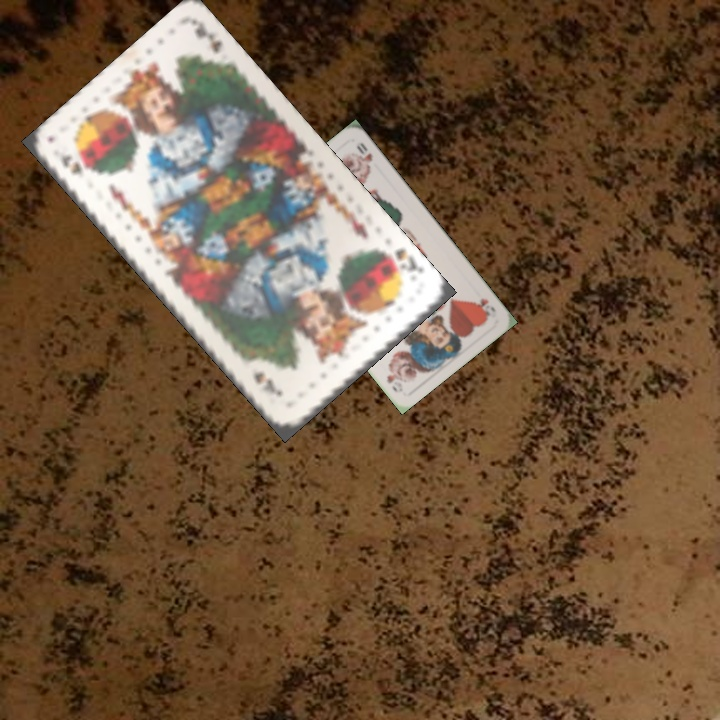HO: (470, 294, 499, 322)
SK: (375, 243, 426, 276), (57, 150, 86, 179)
